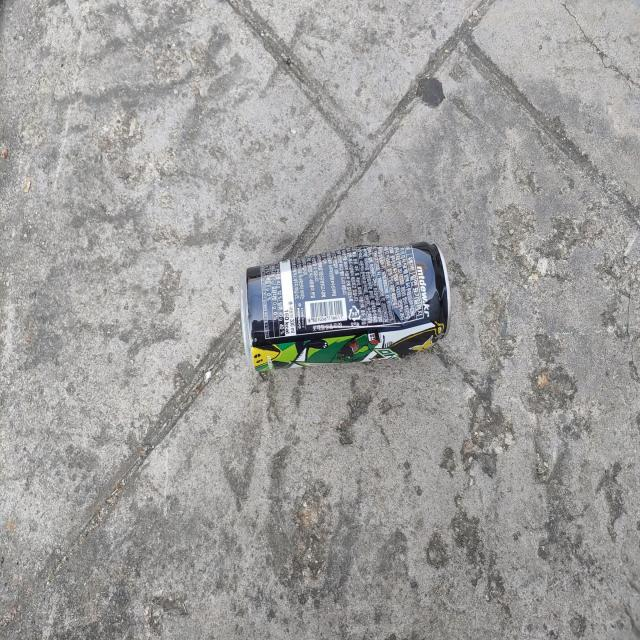can: (240, 242, 451, 371)
